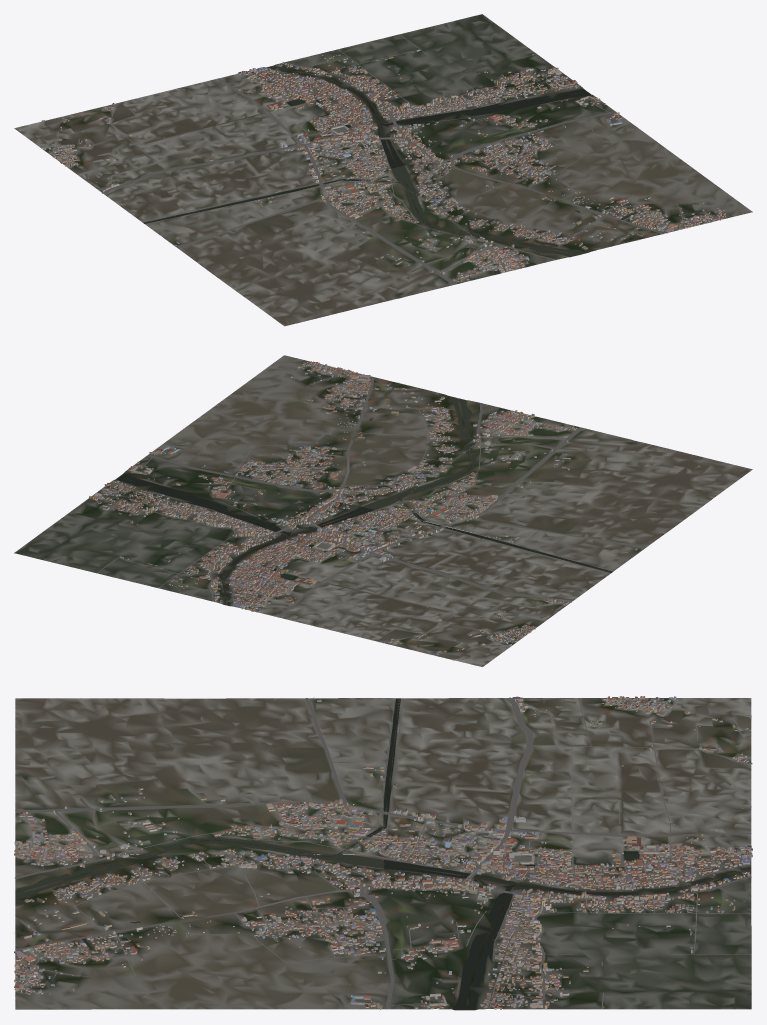
3 views of the same model, one above another, from view 1: azimuth 30°, elevation 25°; view 2: azimuth 150°, elevation 25°; view 3: azimuth 270°, elevation 25° (orthographic). The views are drawn at different scales.
Visible parts, largest first — view 1: ground, buildings, roads, water; view 2: ground, buildings, roads, water; view 3: ground, buildings, roads, water.
Boxes of the visible parts, box(x1,y1,x2,y2) form: ground: box(14, 14, 752, 326); buildings: box(41, 49, 725, 319); roads: box(31, 34, 749, 284); water: box(143, 66, 590, 294); ground: box(14, 355, 752, 666); buildings: box(71, 361, 729, 660); roads: box(69, 360, 646, 660); water: box(116, 396, 626, 605); ground: box(15, 698, 751, 1010); buildings: box(14, 696, 752, 1009); roads: box(15, 697, 751, 1009); water: box(15, 698, 751, 1009).
Bounding box in the file's own units: 2816 × 31.28 × 2814.
